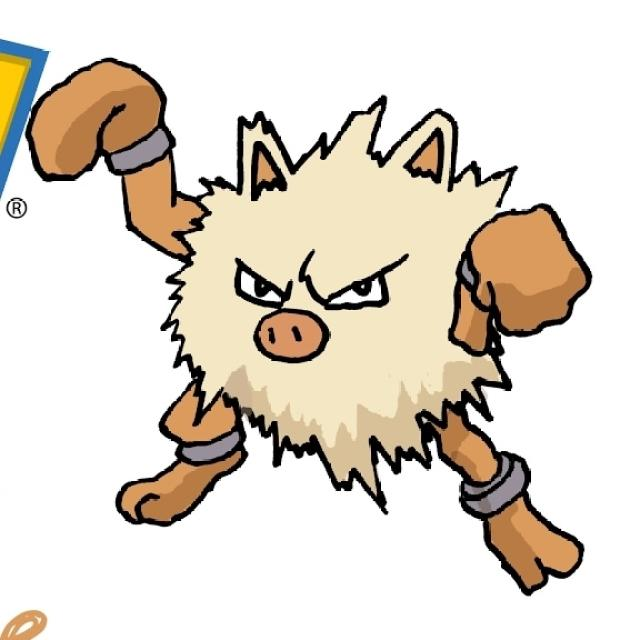Primeape: (116, 84, 592, 525)
